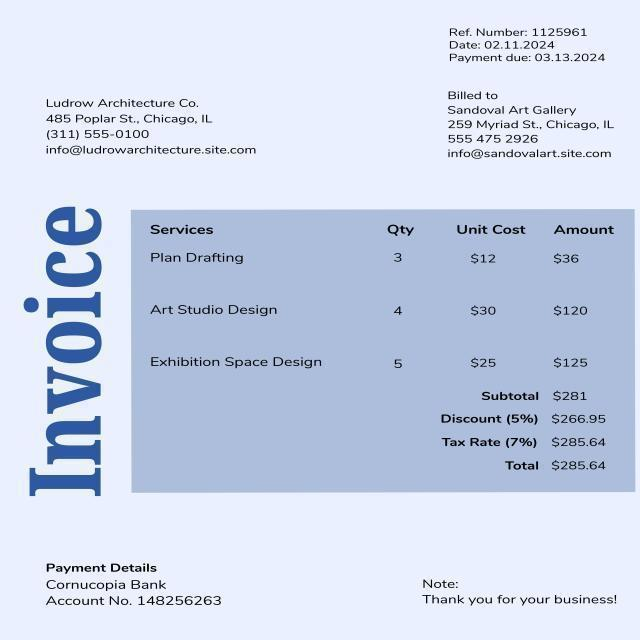paragraph: (21, 200, 107, 494), (450, 25, 622, 159), (420, 391, 616, 474), (42, 95, 262, 161), (45, 557, 228, 614), (421, 576, 622, 610)
table: (133, 212, 623, 373)
